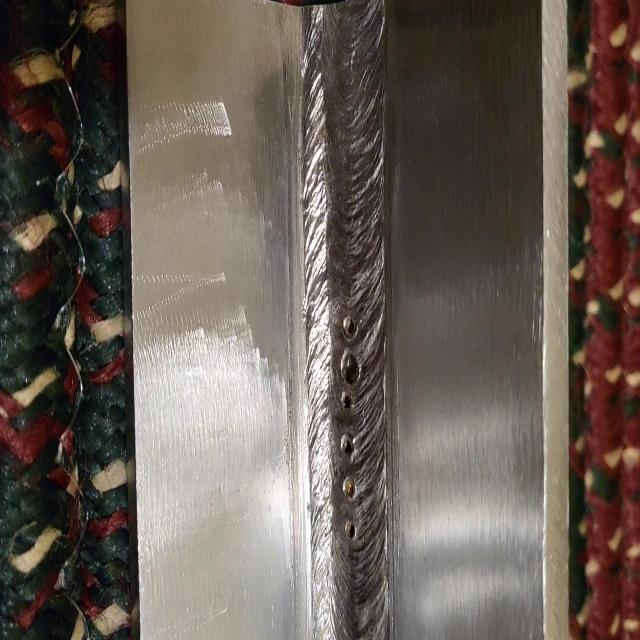Welding Line: (305, 13, 386, 640)
Workpiece: (125, 4, 563, 640)
porosity: (340, 313, 360, 542)
